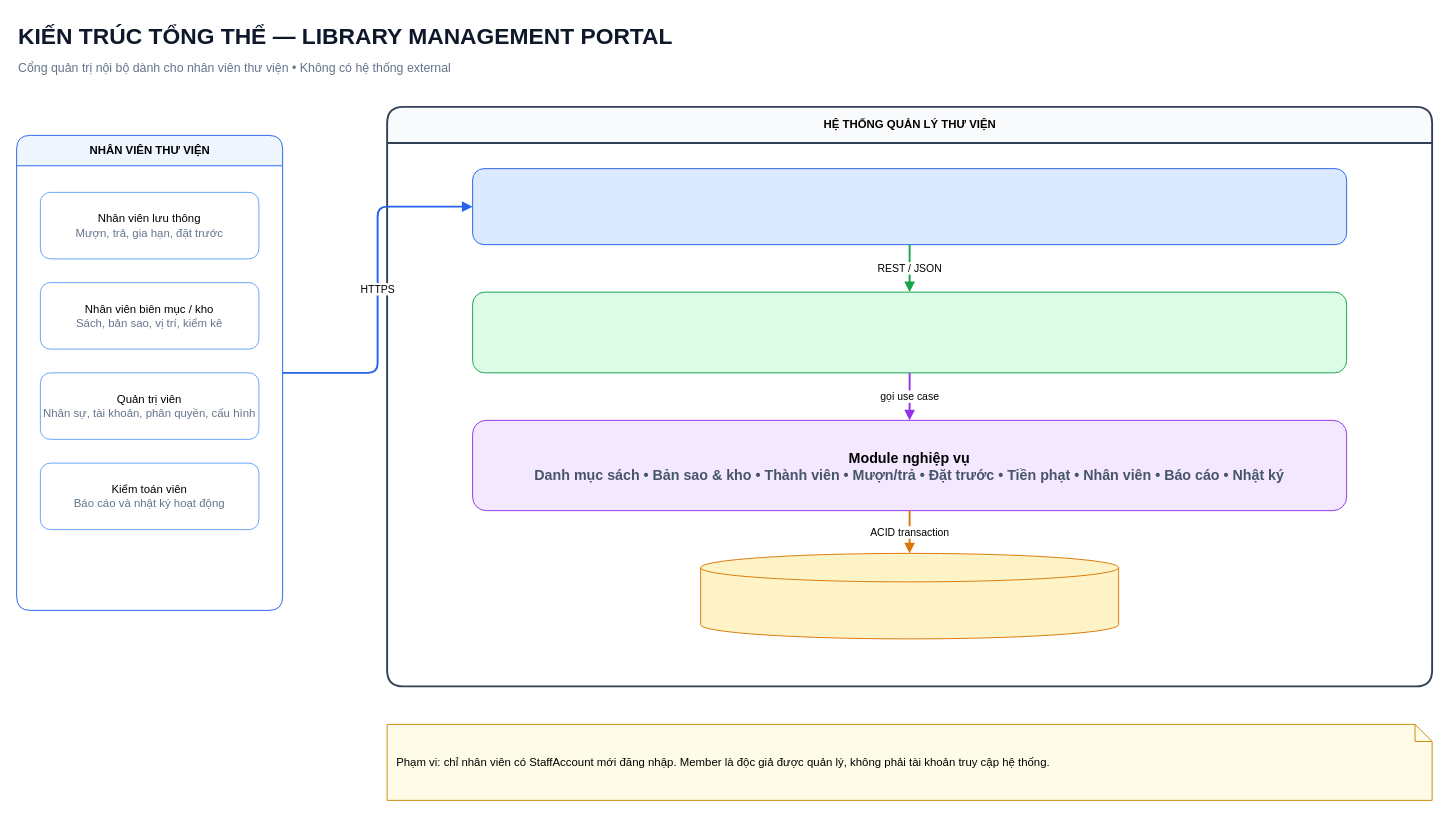
The diagram is 1450 pixels wide and 817 high, and some of its shapes have lost their labels. The shapes that lost their labels are listed below. From the top down, each one's centre as x and y in pixels, then its label:
At (909,206): "Web Portal React + TypeScript • giao diện nghiệp vụ • kiểm tra quyền hiển thị".
At (909,332): "REST API Xác thực • phân quyền • xử lý nghiệp vụ • kiểm tra dữ liệu • giao dịch".
At (909,595): "PostgreSQL Dữ liệu nghiệp vụ, tài khoản, phân quyền và audit log".
